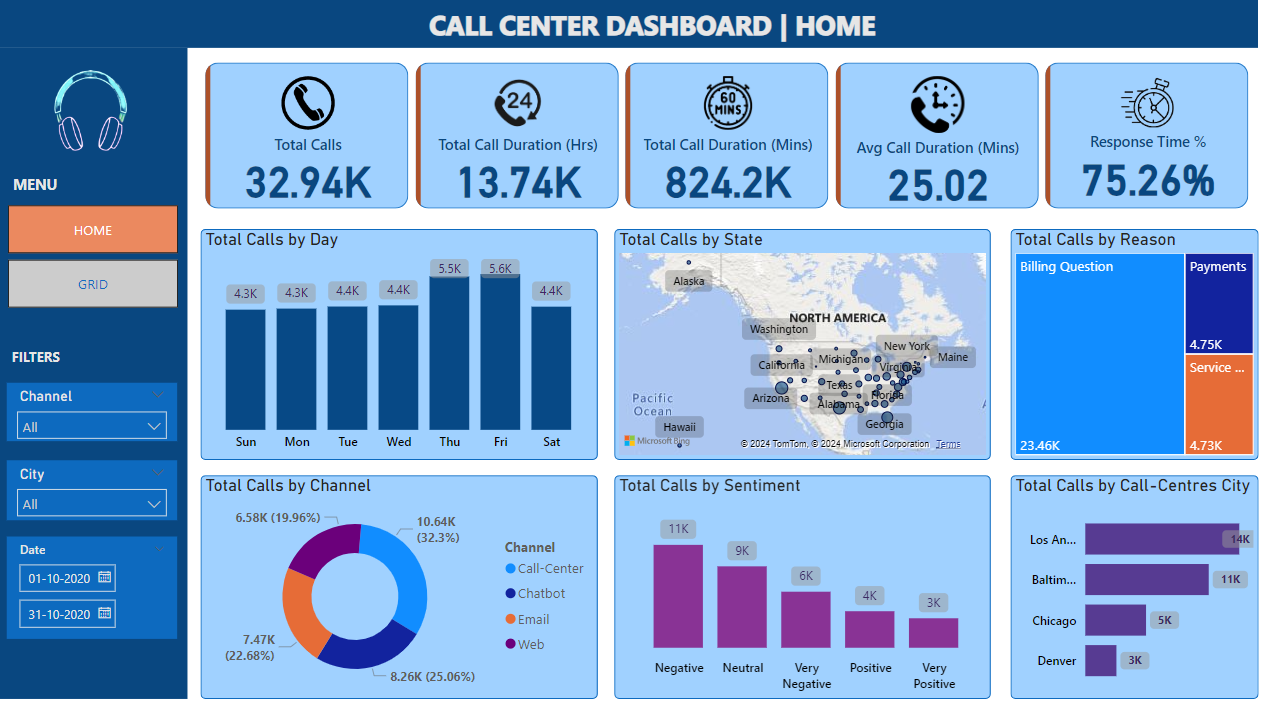

Layout of this report page (visuals, bound fields, positions):
{"tool":"powerbi","page":{"name":"HOME","canvas":[1280,720],"ordinal":0},"visuals":[{"type":"shape","box":[9.8,58.7,189.5,651.5],"z":0},{"type":"shape","box":[9.8,8.6,1260.3,50.1],"z":1000},{"type":"cardVisual","fields":{"Data":["Call_center.Total Calls","Call_center.Total Call Dur IN Hr","Call_center.Total Call Dur IN Min","Call_center.Avg Call Dur IN Min","Call_center.Response Time %"]},"box":[212.7,68.5,1057.4,156.5],"z":2000},{"type":"shape","box":[212.7,239.6,397.3,231],"z":3000},{"type":"shape","box":[212.7,486.5,397.3,223.7],"z":4000},{"type":"shape","box":[625.9,239.6,376.5,231],"z":5000},{"type":"shape","box":[625.9,486.5,376.5,223.7],"z":6000},{"type":"shape","box":[1021.9,239.6,248.1,231],"z":7000},{"type":"shape","box":[1021.9,486.5,248.1,223.7],"z":8000},{"type":"columnChart","fields":{"Category":["Date Table.Day"],"Y":["Call_center.Total Calls"]},"box":[212.7,239.6,397.3,231],"z":9000},{"type":"map","fields":{"Category":["Call_center.State"],"Size":["Call_center.Total Calls"]},"box":[625.9,239.6,376.5,231],"z":10000},{"type":"textbox","box":[18.8,353.8,98.8,31.2],"z":11000},{"type":"donutChart","fields":{"Y":["Call_center.Total Calls"],"Category":["Call_center.Channel"]},"box":[212.7,486.5,397.3,223.7],"z":12000},{"type":"columnChart","fields":{"Y":["Call_center.Total Calls"],"Category":["Call_center.Sentiment"]},"box":[625.9,486.5,376.5,223.7],"z":13000},{"type":"barChart","fields":{"Y":["Call_center.Total Calls"],"Category":["Call_center.Call-Centres City"]},"box":[1021.9,486.5,248.1,223.7],"z":14000},{"type":"treemap","fields":{"Group":["Call_center.Reason"],"Values":["Call_center.Total Calls"]},"box":[1021.9,239.6,248.1,231],"z":15000},{"type":"slicer","fields":{"Values":["Call_center.Channel"]},"box":[18.8,393.8,170,58.8],"z":16000},{"type":"slicer","fields":{"Values":["Call_center.City"]},"box":[18.8,471.2,170,60],"z":17000},{"type":"textbox","box":[411.2,12.5,506.2,46.2],"z":18000},{"type":"slicer","fields":{"Values":["Date Table.Date"]},"box":[18.8,547.5,170,102.5],"z":19000},{"type":"image","box":[18.8,58.8,170,123.8],"z":20000},{"type":"pageNavigator","box":[20,216.2,170,102.5],"z":21000},{"type":"textbox","box":[20,180,72.5,36.2],"z":22000}]}

Visuals, with their boxes in screenshot pixels (x1, y1, x2, y2), scaled from the page's 1280x720 canvas onto the 1265x705 screenshot:
shape: detection(10, 57, 197, 695)
shape: detection(10, 8, 1255, 57)
cardVisual - Call_center.Total Calls x Call_center.Total Call Dur IN Hr: detection(210, 67, 1255, 220)
shape: detection(210, 235, 603, 461)
shape: detection(210, 476, 603, 695)
shape: detection(619, 235, 991, 461)
shape: detection(619, 476, 991, 695)
shape: detection(1010, 235, 1255, 461)
shape: detection(1010, 476, 1255, 695)
columnChart - Date Table.Day x Call_center.Total Calls: detection(210, 235, 603, 461)
map - Call_center.State x Call_center.Total Calls: detection(619, 235, 991, 461)
textbox: detection(19, 346, 116, 377)
donutChart - Call_center.Total Calls x Call_center.Channel: detection(210, 476, 603, 695)
columnChart - Call_center.Total Calls x Call_center.Sentiment: detection(619, 476, 991, 695)
barChart - Call_center.Total Calls x Call_center.Call-Centres City: detection(1010, 476, 1255, 695)
treemap - Call_center.Reason x Call_center.Total Calls: detection(1010, 235, 1255, 461)
slicer - Call_center.Channel: detection(19, 386, 187, 443)
slicer - Call_center.City: detection(19, 461, 187, 520)
textbox: detection(406, 12, 907, 57)
slicer - Date Table.Date: detection(19, 536, 187, 636)
image: detection(19, 58, 187, 179)
pageNavigator: detection(20, 212, 188, 312)
textbox: detection(20, 176, 91, 212)
